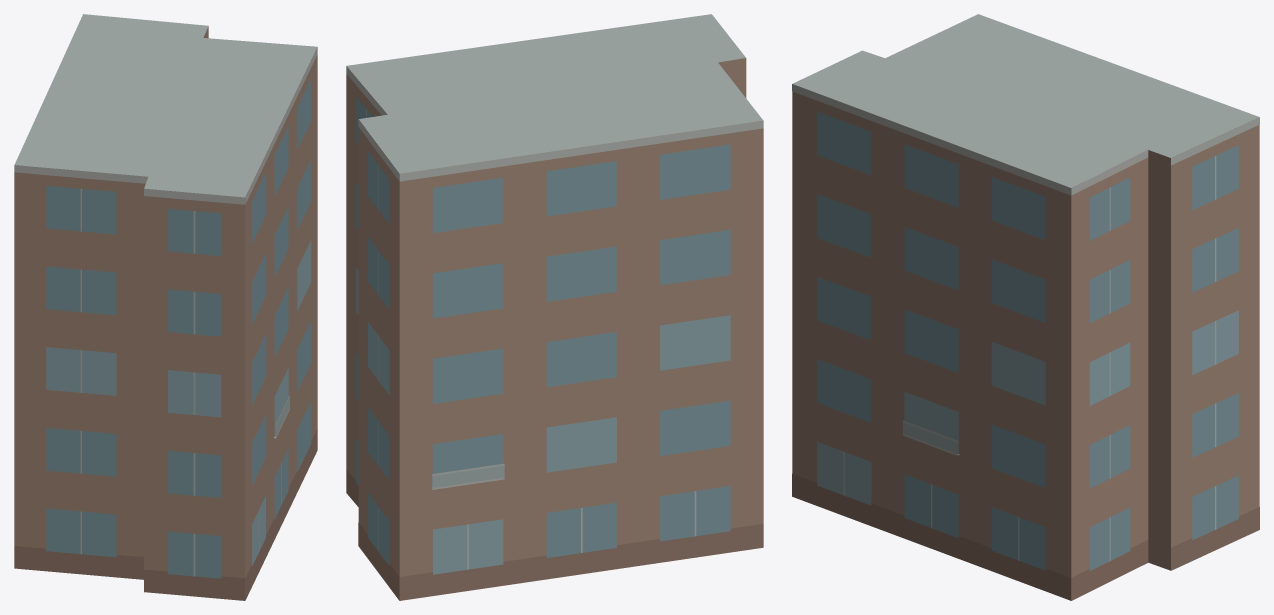
The model's file is survey-upis-32857220.glb.
3 views of the same model, side by side, from view 1: azimuth 30°, elevation 25°; view 2: azimuth 150°, elevation 25°; view 3: azimuth 270°, elevation 25° (orthographic). The views are drawn at different scales.
Visible parts, largest first — view 1: survey-upis-32857220.tmp; view 2: survey-upis-32857220.tmp; view 3: survey-upis-32857220.tmp.
Part boxes in pixels (bbox=[...]): survey-upis-32857220.tmp: bbox=[14, 14, 317, 600]; survey-upis-32857220.tmp: bbox=[346, 14, 763, 600]; survey-upis-32857220.tmp: bbox=[792, 14, 1259, 600].
Bounding box in the file's own units: 12.22 × 13.5 × 13.87.
